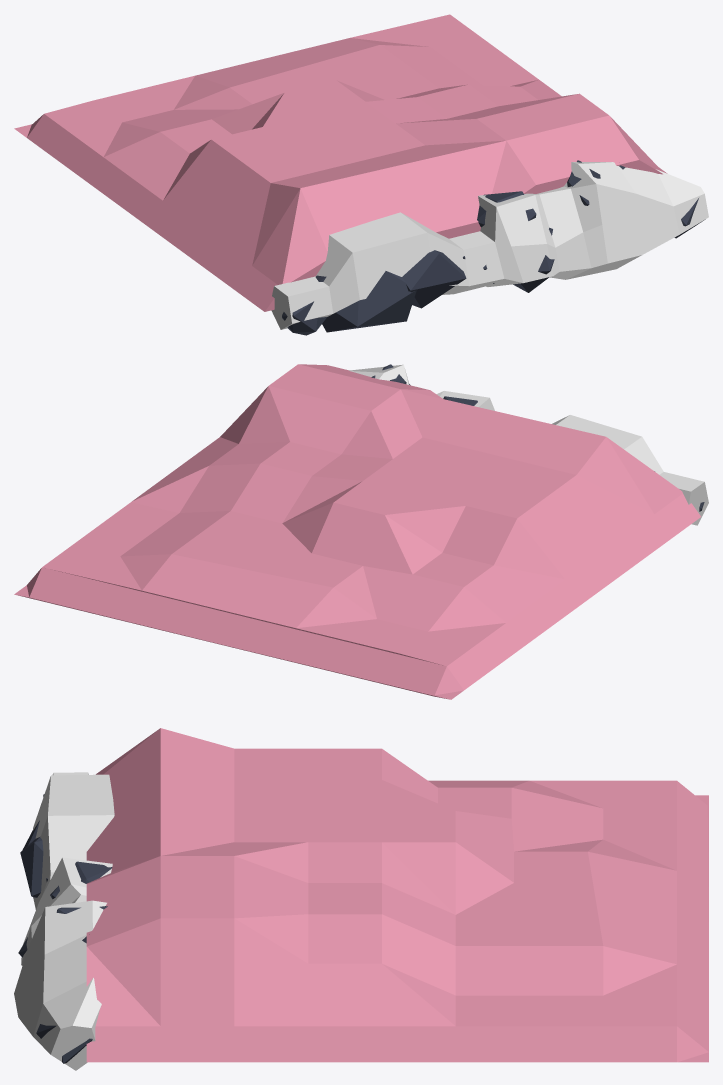
The model's file is CliffA.glb.
3 renders of one model, top to bottom at view 1: azimuth 30°, elevation 25°; view 2: azimuth 150°, elevation 25°; view 3: azimuth 270°, elevation 25°, orthographic. The views are drawn at different scales.
Visible parts, largest first — view 1: ground, Cylinder, Icosphere.006, Icosphere.003, Icosphere.005, Icosphere.001; view 2: ground, Cylinder; view 3: ground, Cylinder, Icosphere.003, Icosphere.001.
Boxes of the visible parts, x1=… form: ground: x1=14, y1=14, x2=667, y2=311; Cylinder: x1=271, y1=162, x2=708, y2=329; Icosphere.006: x1=315, y1=271, x2=416, y2=332; Icosphere.003: x1=402, y1=250, x2=466, y2=308; Icosphere.005: x1=282, y1=301, x2=326, y2=335; Icosphere.001: x1=477, y1=191, x2=536, y2=227; ground: x1=14, y1=364, x2=700, y2=699; Cylinder: x1=349, y1=364, x2=708, y2=525; ground: x1=86, y1=728, x2=708, y2=1062; Cylinder: x1=14, y1=772, x2=114, y2=1070; Icosphere.003: x1=20, y1=836, x2=43, y2=897; Icosphere.001: x1=50, y1=861, x2=112, y2=899.
Size of the model in its own units: 17.03 by 4.74 by 18.84.
